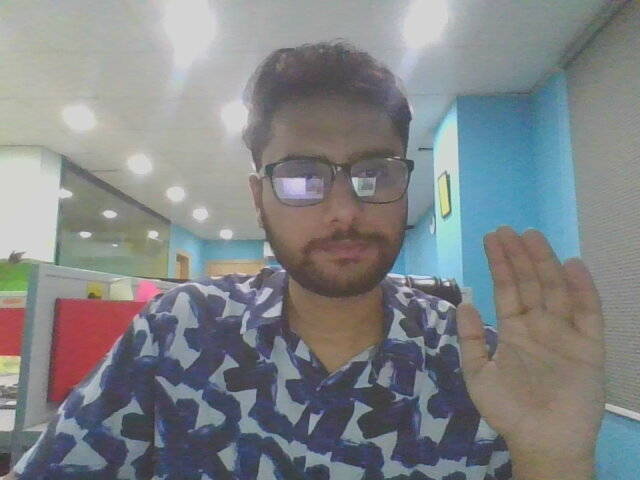hello: (432, 211, 623, 466)
